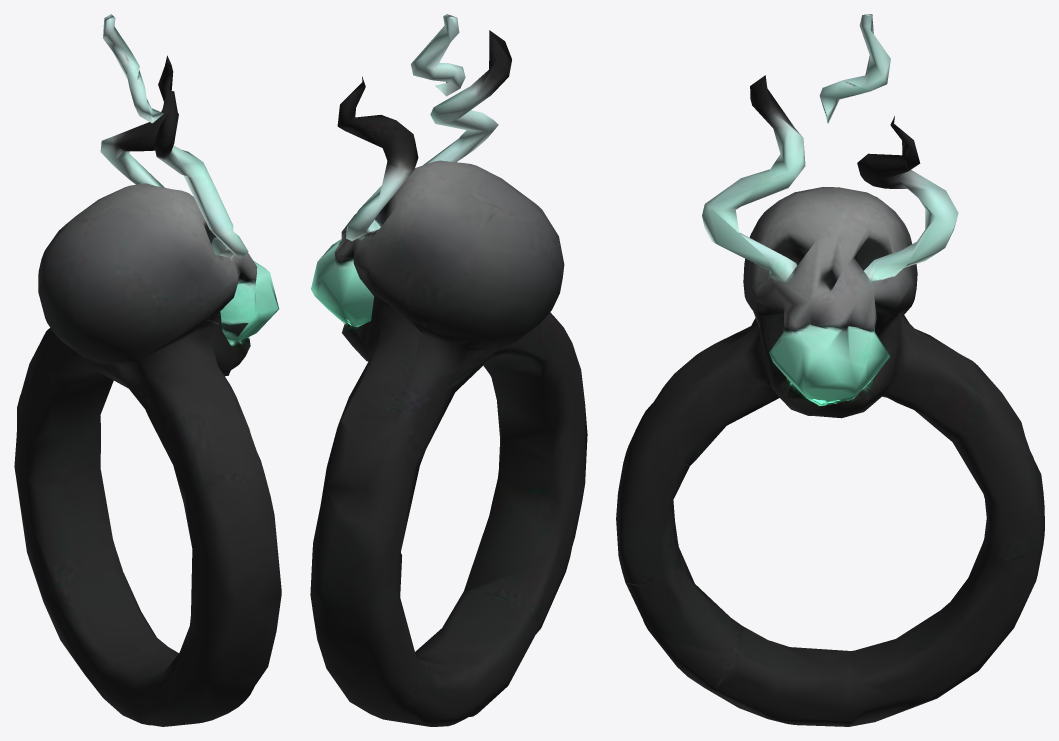
The model's file is uq_ring_lastbreath-DzAQqiTf.glb.
3 views of the same model, side by side, from view 1: azimuth 30°, elevation 25°; view 2: azimuth 150°, elevation 25°; view 3: azimuth 270°, elevation 25° (orthographic). The views are drawn at different scales.
Visible parts, largest first — view 1: tripo_node_f8ddbfd0-fced-4c19-8b92-38864cf9020a; view 2: tripo_node_f8ddbfd0-fced-4c19-8b92-38864cf9020a; view 3: tripo_node_f8ddbfd0-fced-4c19-8b92-38864cf9020a.
Part boxes in pixels (box(x1,y1,x2,y2)): tripo_node_f8ddbfd0-fced-4c19-8b92-38864cf9020a: box(14, 14, 281, 726); tripo_node_f8ddbfd0-fced-4c19-8b92-38864cf9020a: box(310, 14, 587, 726); tripo_node_f8ddbfd0-fced-4c19-8b92-38864cf9020a: box(616, 14, 1044, 726).
Size of the model in its own units: 0.3295 by 1 by 0.56.
Materials: 1 (1 with a texture image).
